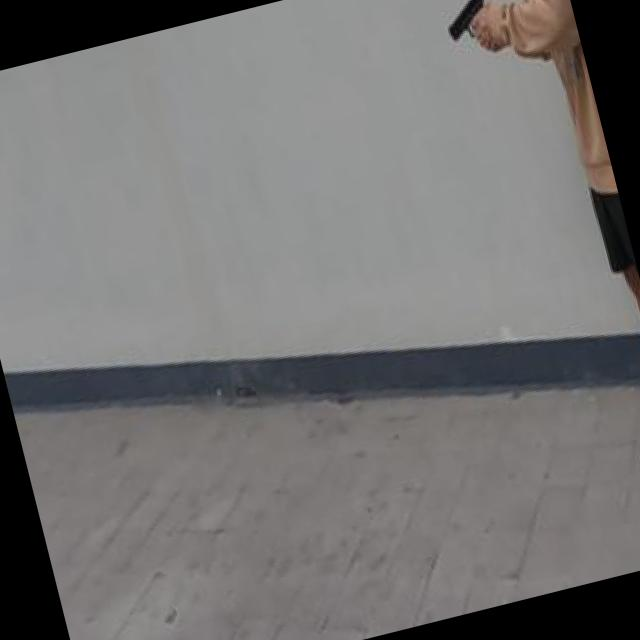Guns: (426, 0, 508, 63)
